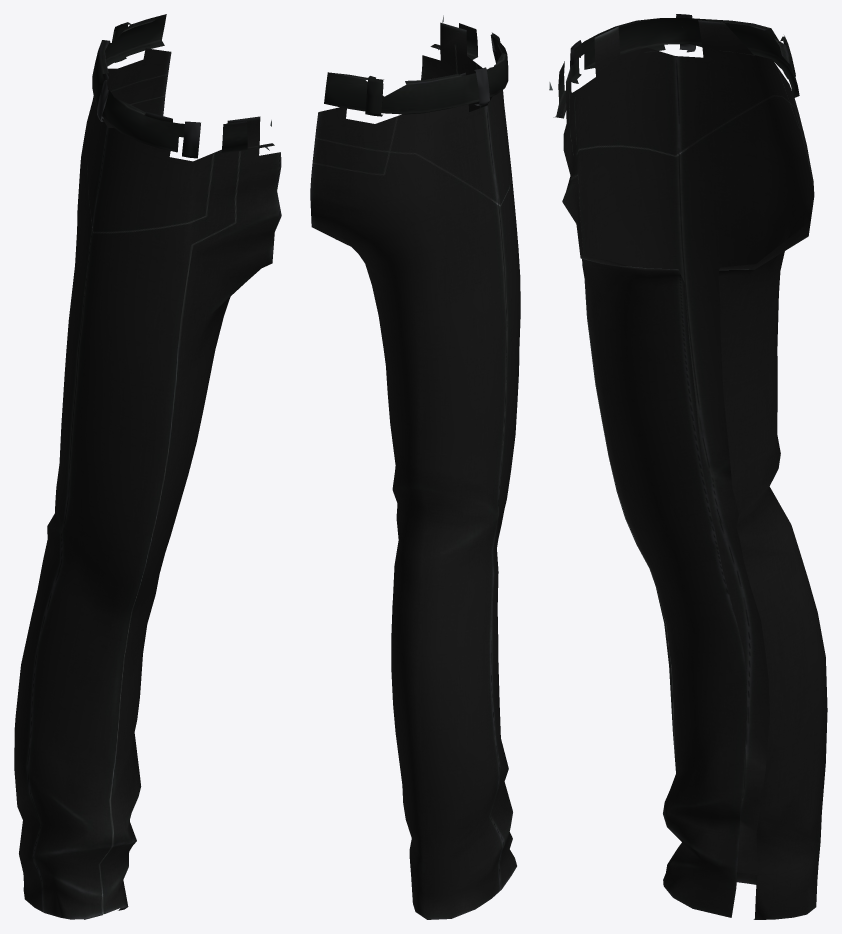
Rendered from estudiante1_piernader.glb.
3 views of the same model, side by side, from view 1: azimuth 30°, elevation 25°; view 2: azimuth 150°, elevation 25°; view 3: azimuth 270°, elevation 25° (orthographic). The views are drawn at different scales.
Parts seen in each view (by area): view 1: Object_19.003; view 2: Object_19.003; view 3: Object_19.003.
Boxes of the visible parts, x1=… form: Object_19.003: x1=14, y1=14, x2=281, y2=919; Object_19.003: x1=310, y1=15, x2=520, y2=919; Object_19.003: x1=549, y1=14, x2=827, y2=919.
Bounding box in the file's own units: 0.206 × 1 × 0.2785.
1 material, 1 textured.
